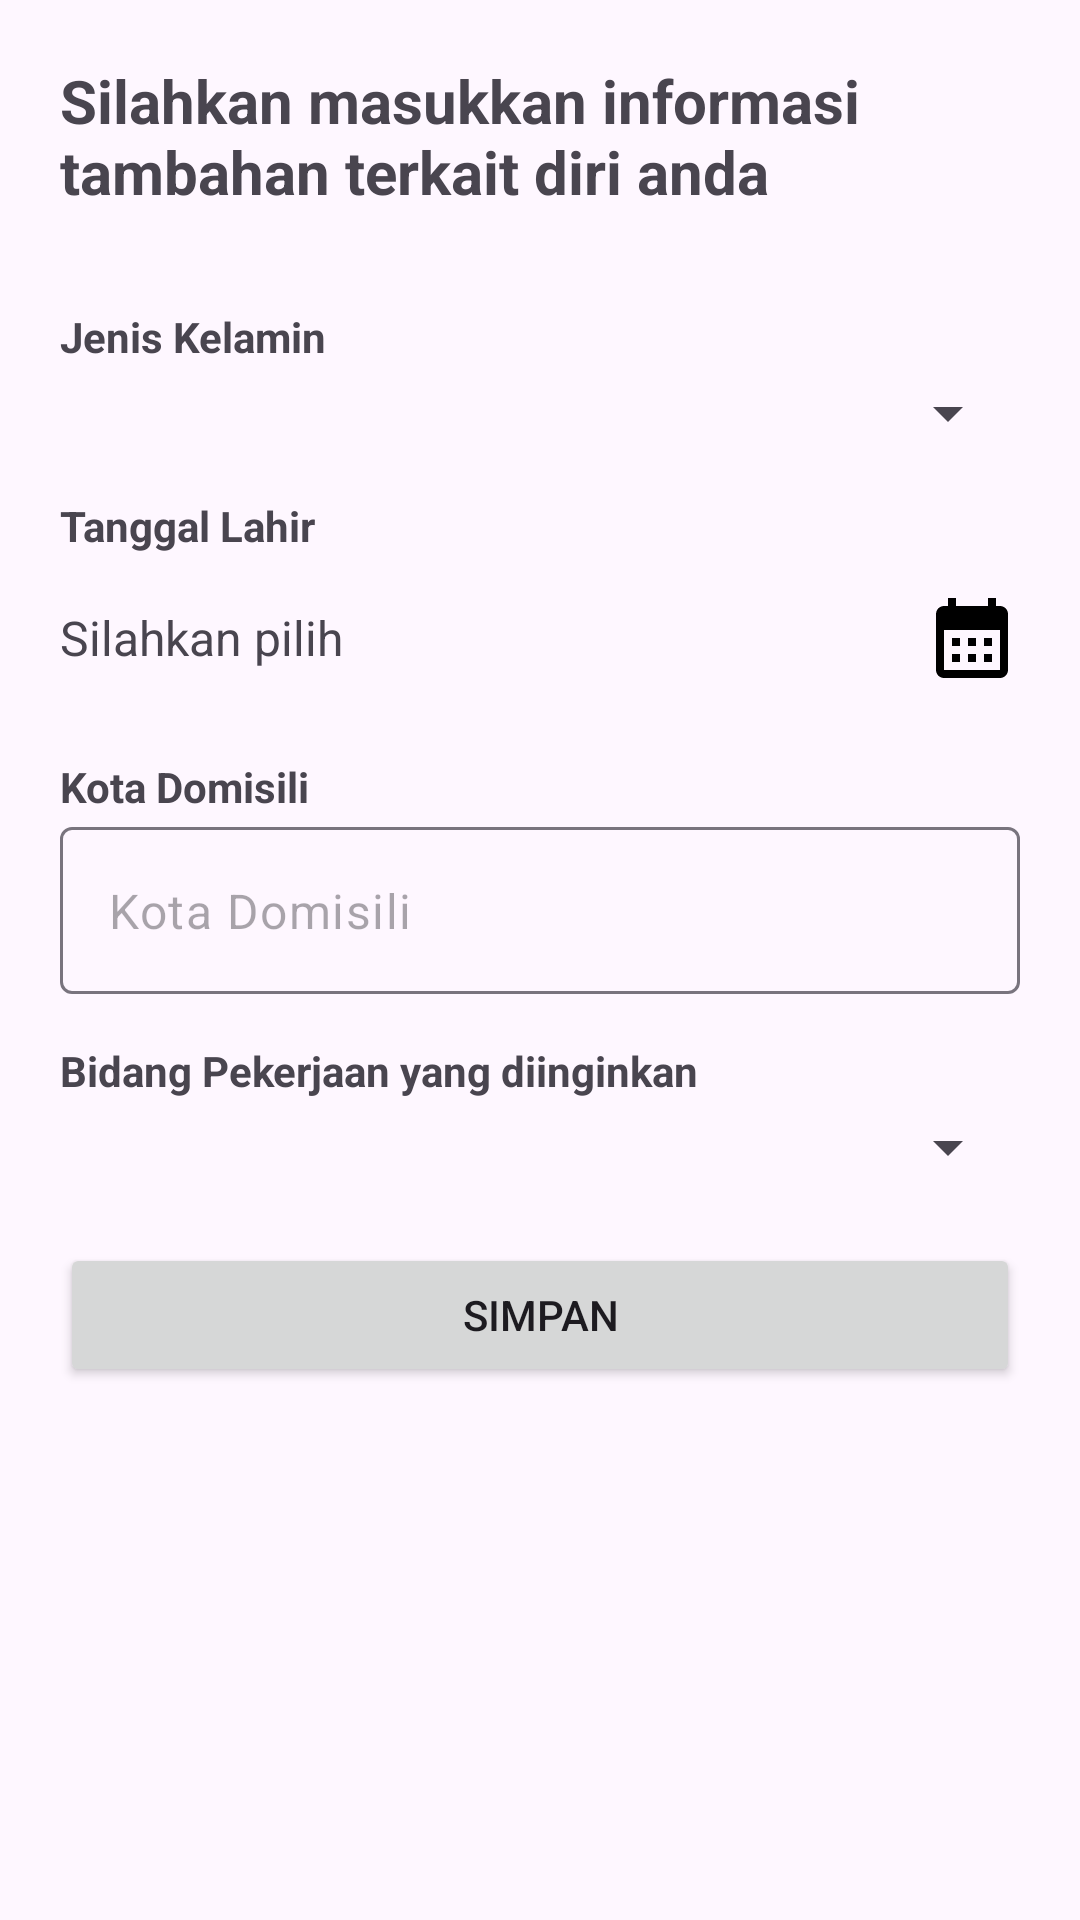

Named icons in this screenshot (1080 × 1920) and their bounding boxes, bbox=[x1, y1, x2, y2]:
Tanggal Lahir: bbox=[936, 598, 1008, 678]
